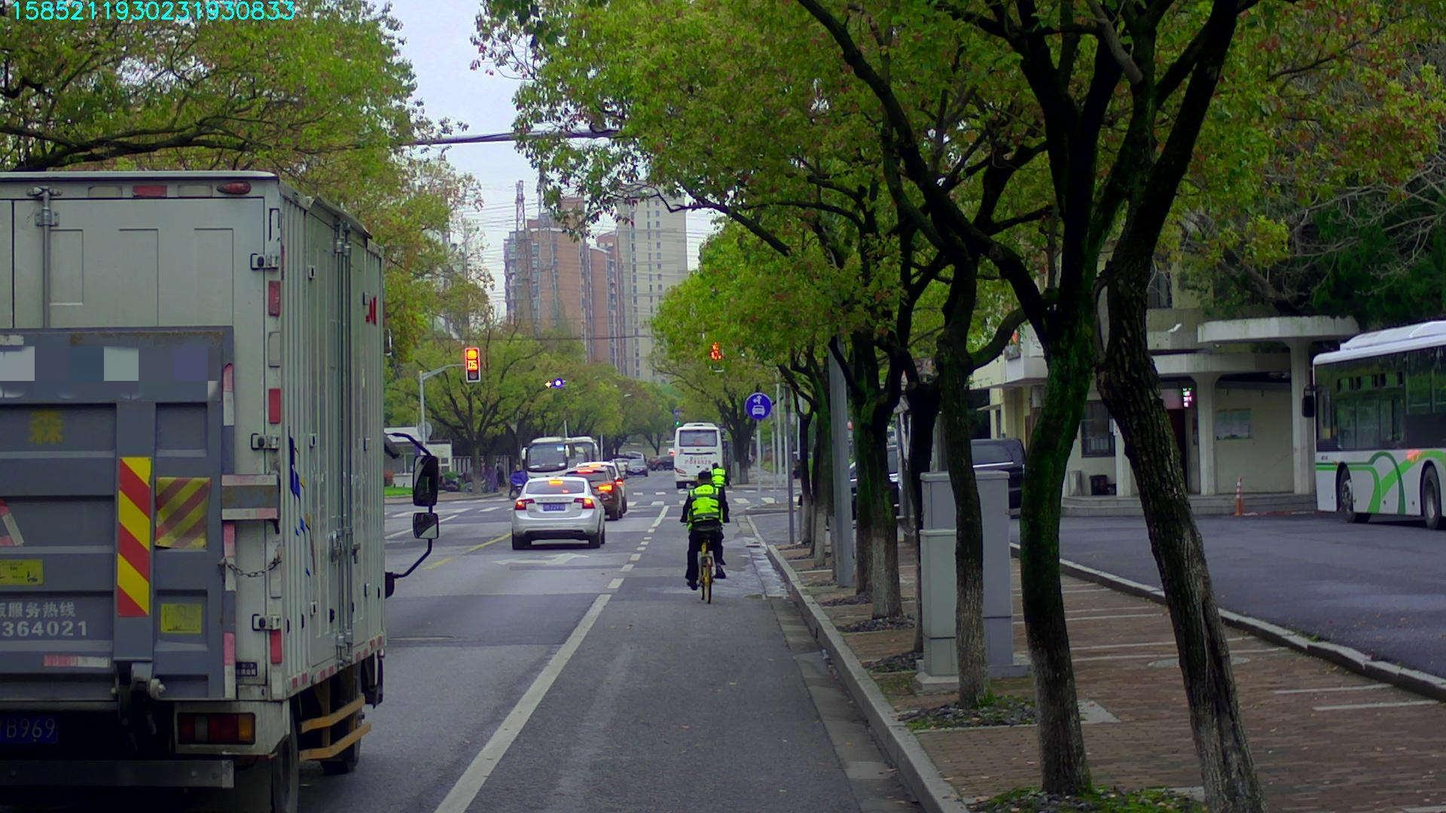red: (704, 339, 722, 370), (465, 349, 479, 381)
